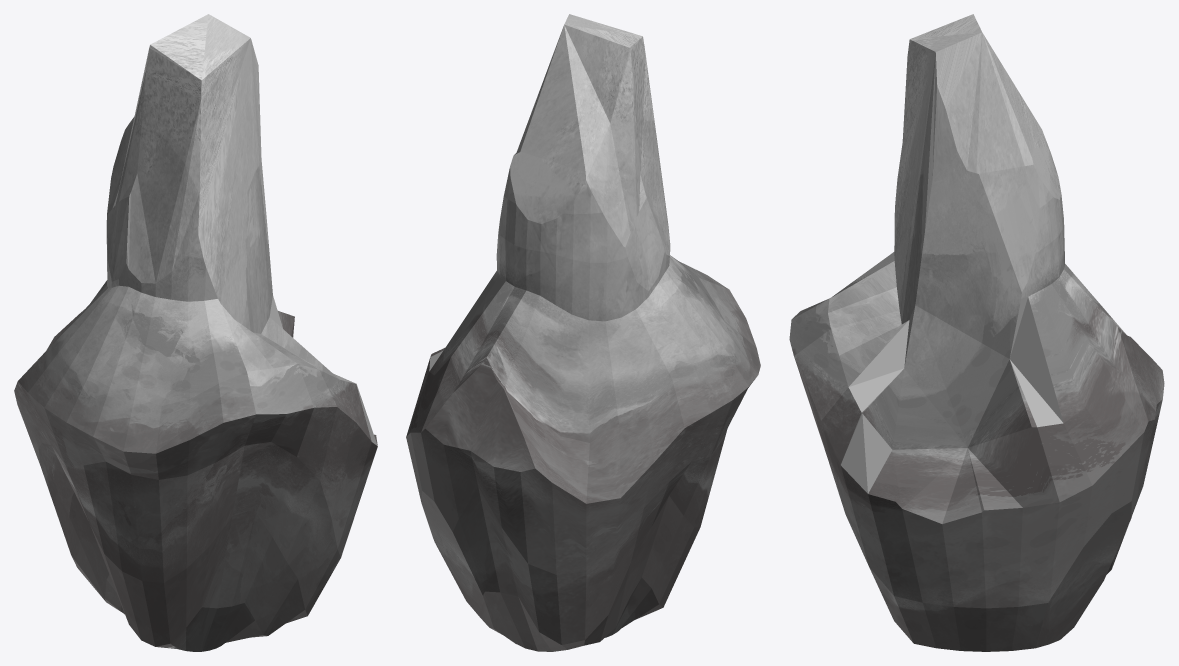
The model's file is rock1.fbx.
3 views of the same model, side by side, from view 1: azimuth 30°, elevation 25°; view 2: azimuth 150°, elevation 25°; view 3: azimuth 270°, elevation 25° (orthographic). The views are drawn at different scales.
Parts seen in each view (by area): view 1: Sphere; view 2: Sphere; view 3: Sphere.
Part boxes in pixels (box(x1,y1,x2,y2)): Sphere: box(14, 14, 377, 651); Sphere: box(406, 14, 760, 651); Sphere: box(789, 14, 1164, 651).
Size of the model in its own units: 387 by 752 by 423.
